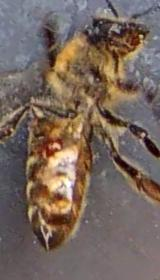varroa_mite: (38, 132, 66, 159)
